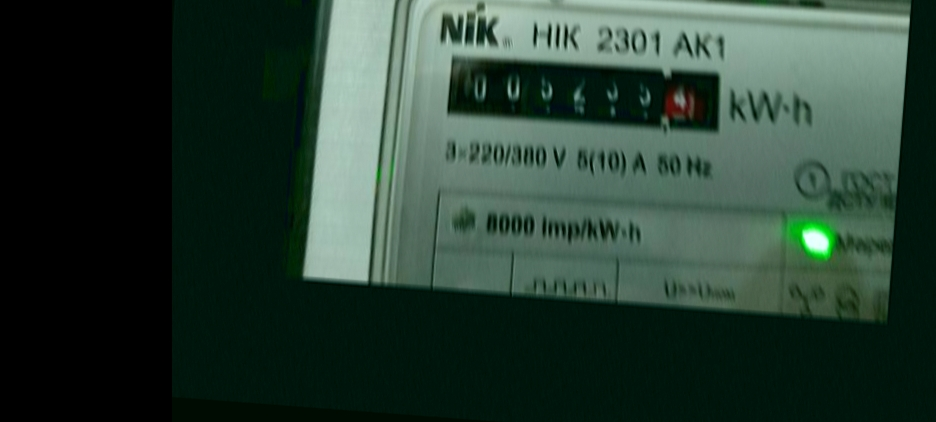0: (505, 69, 527, 103), (472, 70, 493, 103)
2: (571, 71, 594, 106)
3: (603, 71, 629, 106)
4: (671, 76, 696, 114)
5: (636, 73, 661, 110), (539, 69, 560, 104)
screen: (432, 38, 739, 148)
